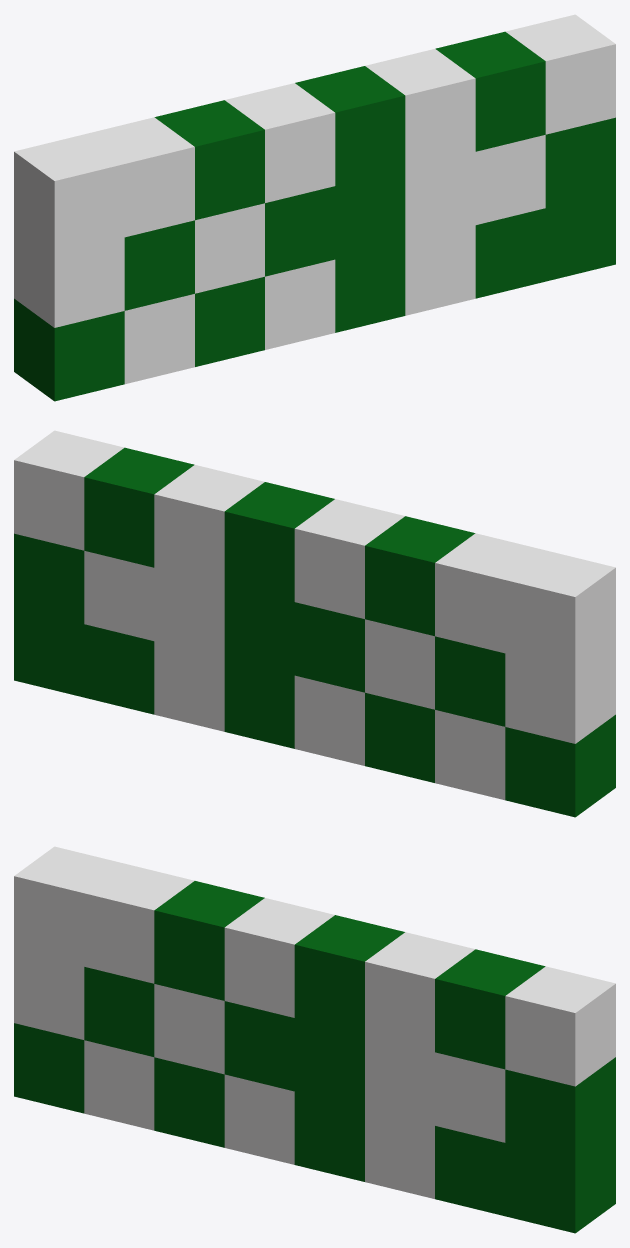
File: BedroomandMainRoom-8.obj
The picture shows the model from 3 angles, top to bottom: view 1: azimuth 30°, elevation 25°; view 2: azimuth 150°, elevation 25°; view 3: azimuth 330°, elevation 25°; orthographic projection.
Size of the model in its own units: 0.8 by 0.3 by 0.1.
1 material, 1 textured.
